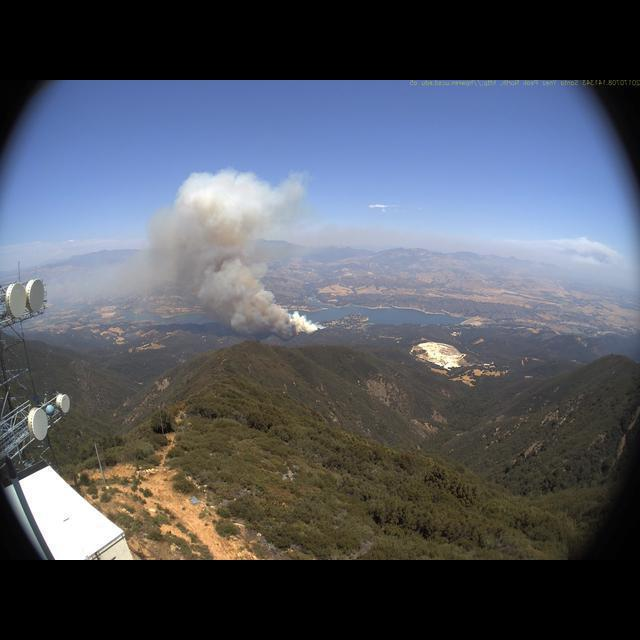Smoke: (136, 162, 339, 338)
